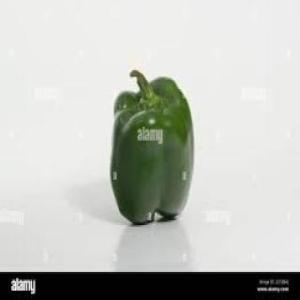bell_pepper: (110, 67, 198, 233)
